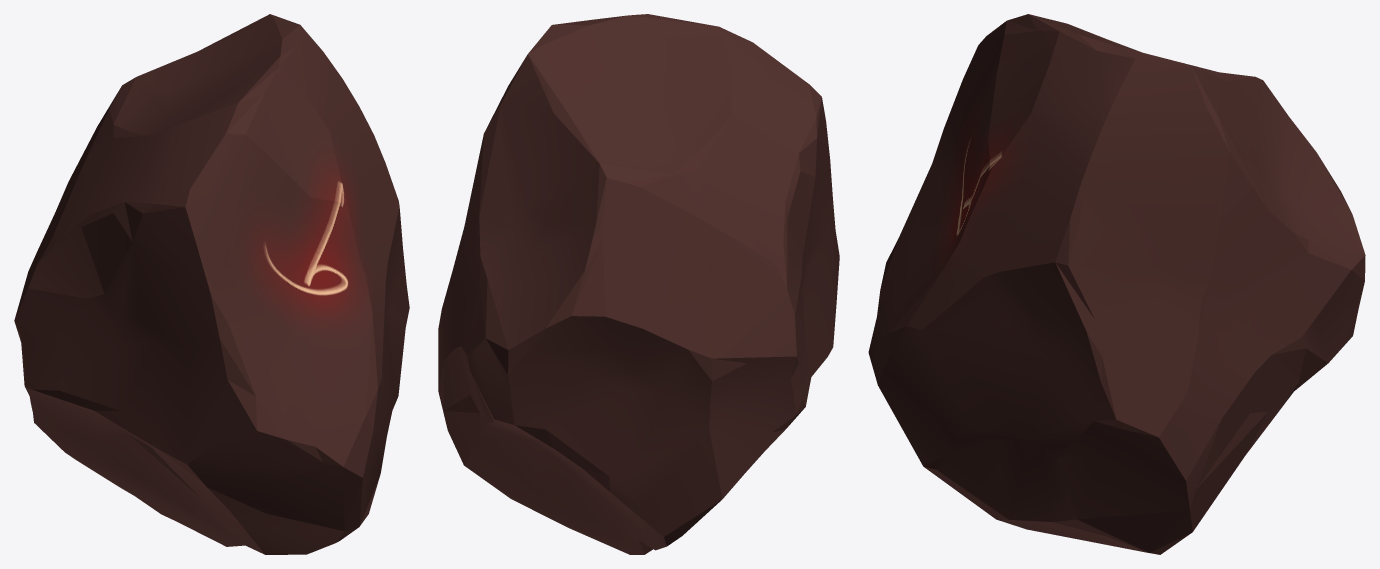
Rendered from Rock_6.FBX.
3 views of the same model, side by side, from view 1: azimuth 30°, elevation 25°; view 2: azimuth 150°, elevation 25°; view 3: azimuth 270°, elevation 25° (orthographic). The views are drawn at different scales.
Visible parts, largest first — view 1: GeoSphere006; view 2: GeoSphere006; view 3: GeoSphere006.
Boxes of the visible parts, x1=… form: GeoSphere006: x1=14, y1=14, x2=409, y2=554; GeoSphere006: x1=438, y1=14, x2=839, y2=554; GeoSphere006: x1=868, y1=14, x2=1365, y2=554.
Bounding box in the file's own units: 120 × 154 × 137.
